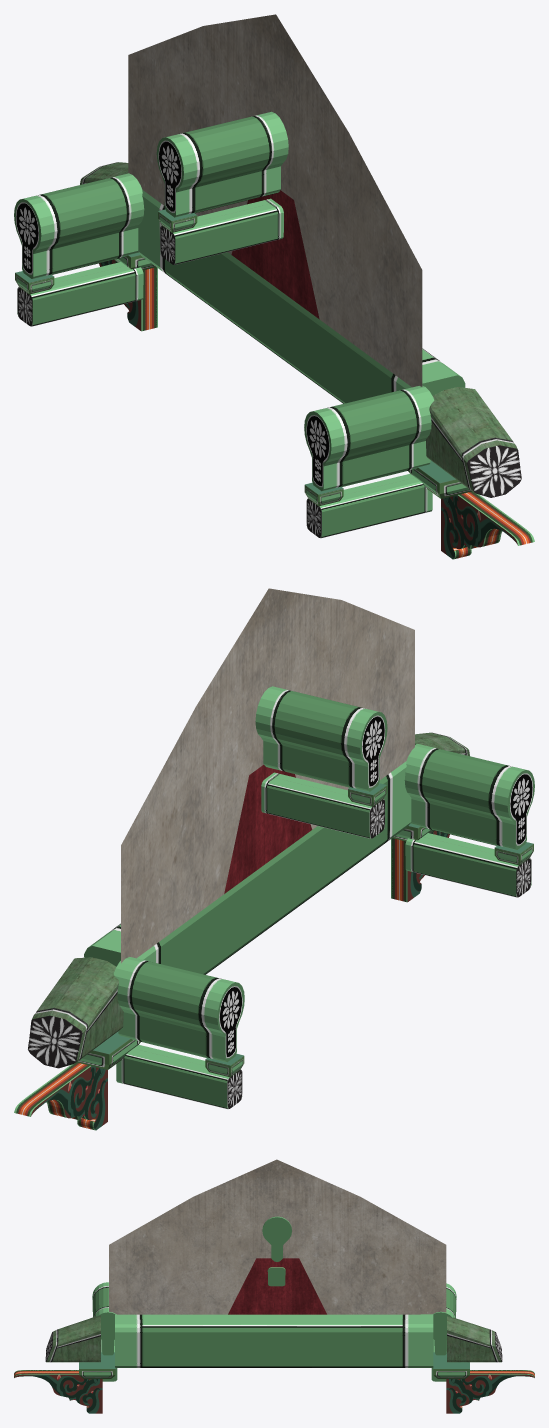
File: SM_R_MiddleBeam_9.fbx
3 views of the same model, one above another, from view 1: azimuth 30°, elevation 25°; view 2: azimuth 150°, elevation 25°; view 3: azimuth 270°, elevation 25° (orthographic). The views are drawn at different scales.
Parts seen in each view (by area): view 1: SM_R_MiddleBeam_9; view 2: SM_R_MiddleBeam_9; view 3: SM_R_MiddleBeam_9.
Boxes of the visible parts, x1,y1,x2,y2 form: SM_R_MiddleBeam_9: (14,14,534,559); SM_R_MiddleBeam_9: (14,588,534,1130); SM_R_MiddleBeam_9: (14,1159,534,1413).
Bounding box in the file's own units: 119 × 577 × 300.
Materials: 6 (6 with a texture image).
